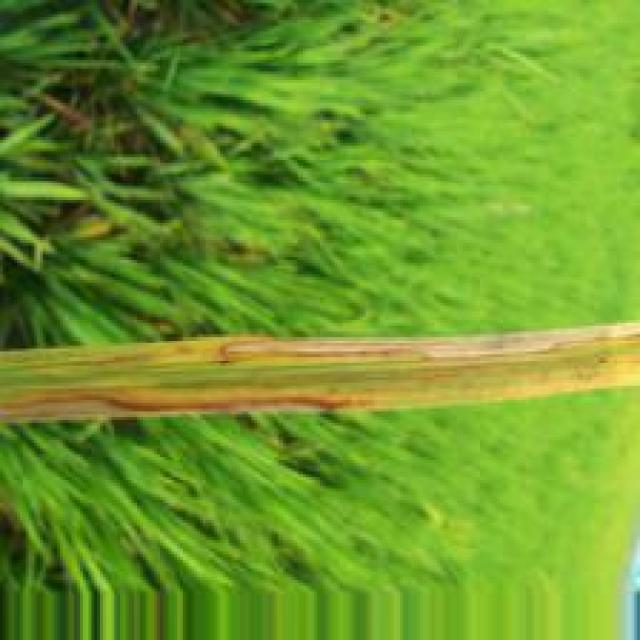Rice Tungro: (211, 322, 636, 364), (0, 387, 369, 420)
